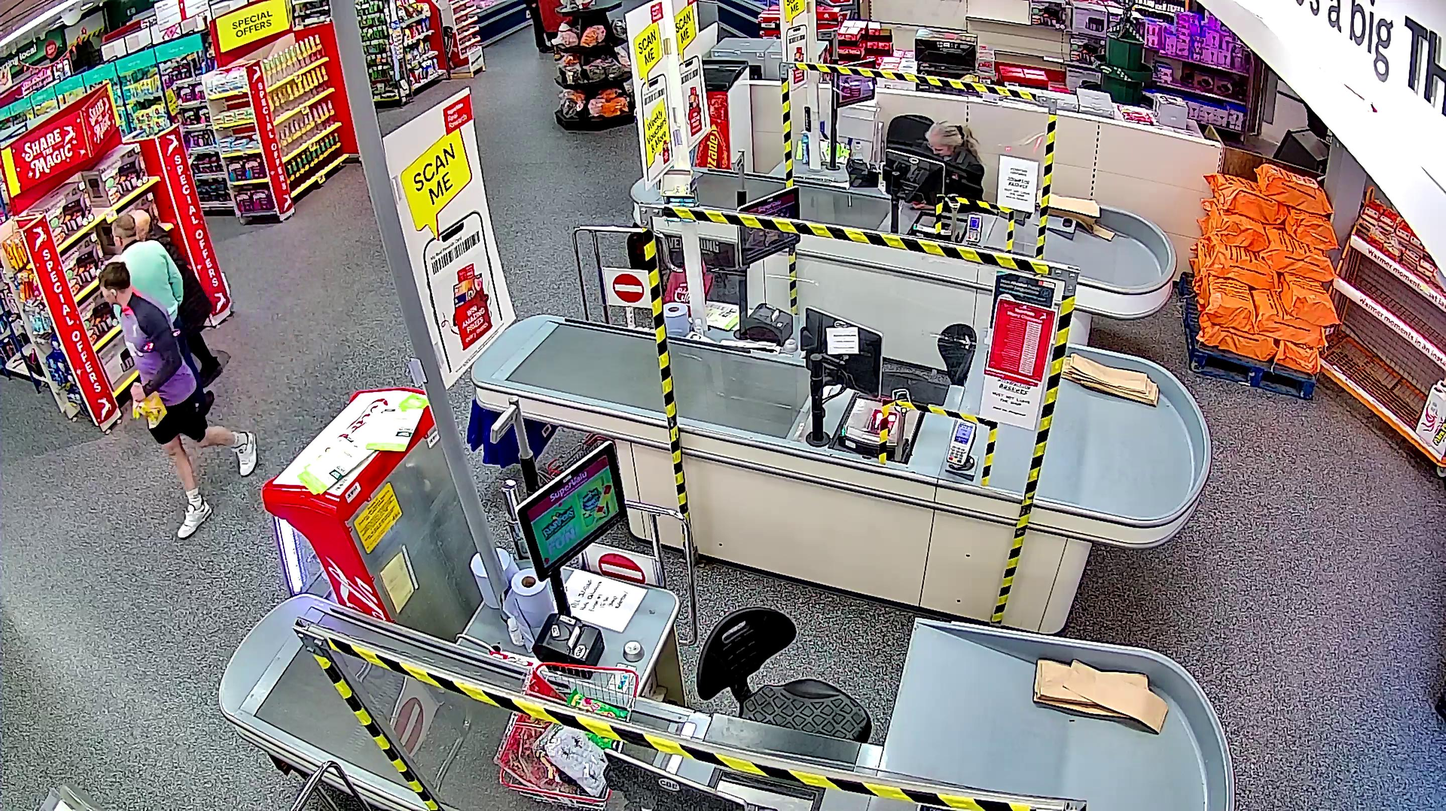carrying-item: (128, 381, 167, 429)
occupied-checkout-counter: (828, 56, 1006, 242)
person: (101, 259, 258, 539)
person-with-carrying-item: (101, 259, 257, 541)
vacant-checkout-counter: (500, 437, 920, 811), (728, 181, 979, 470)
